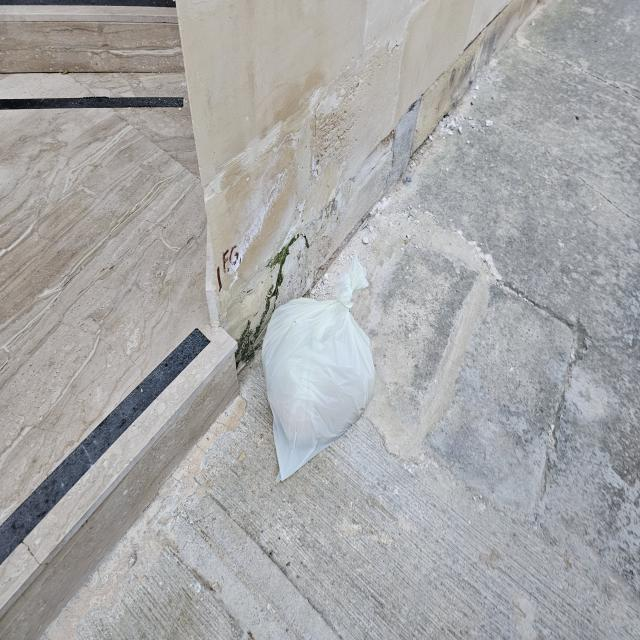white_bag: (259, 256, 381, 486)
